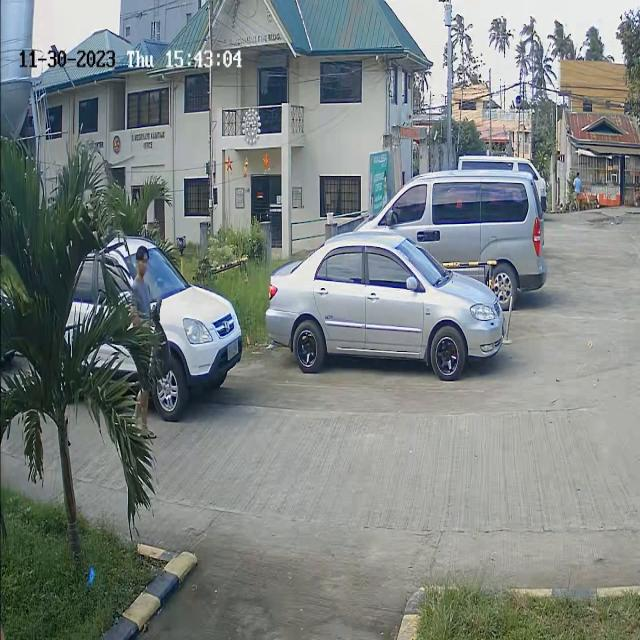person: (128, 242, 153, 339)
